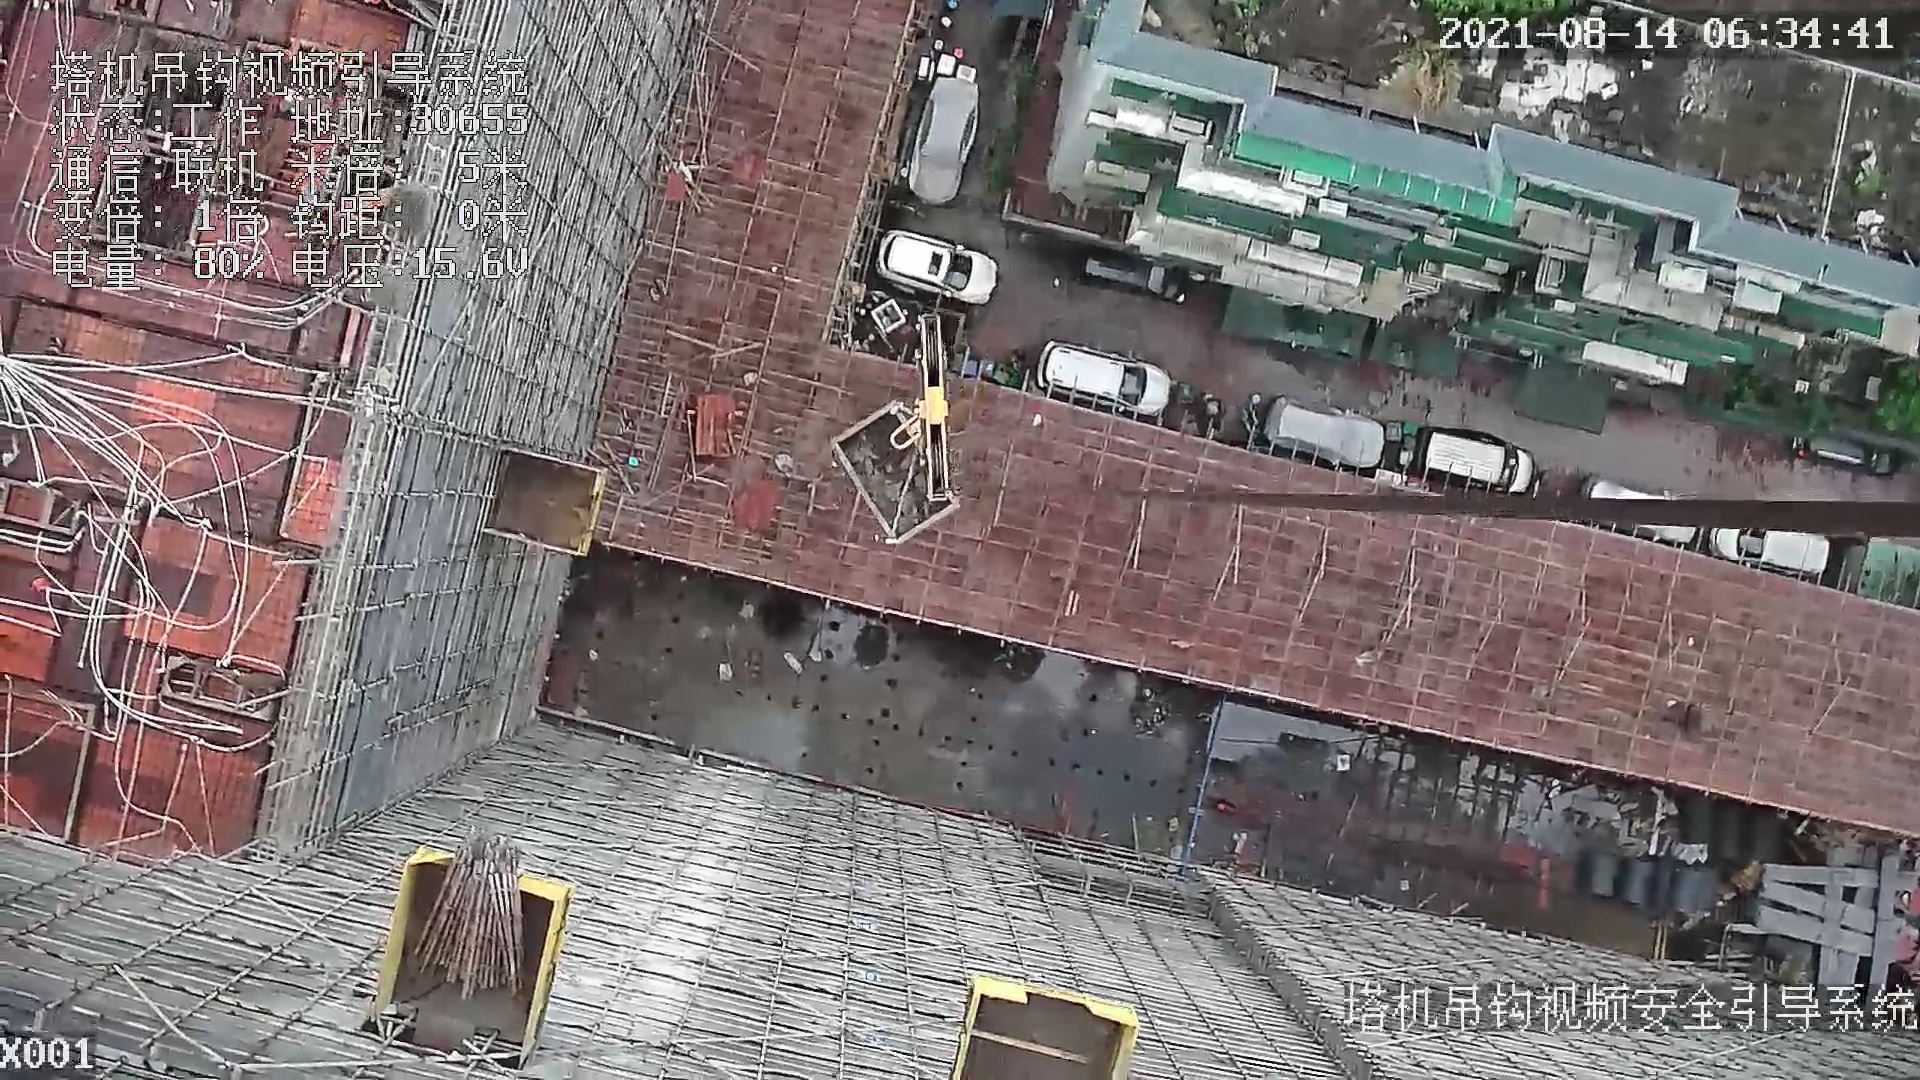hook: (895, 313, 956, 502)
hopper: (827, 400, 967, 554)
scaffold: (422, 828, 545, 1001)
